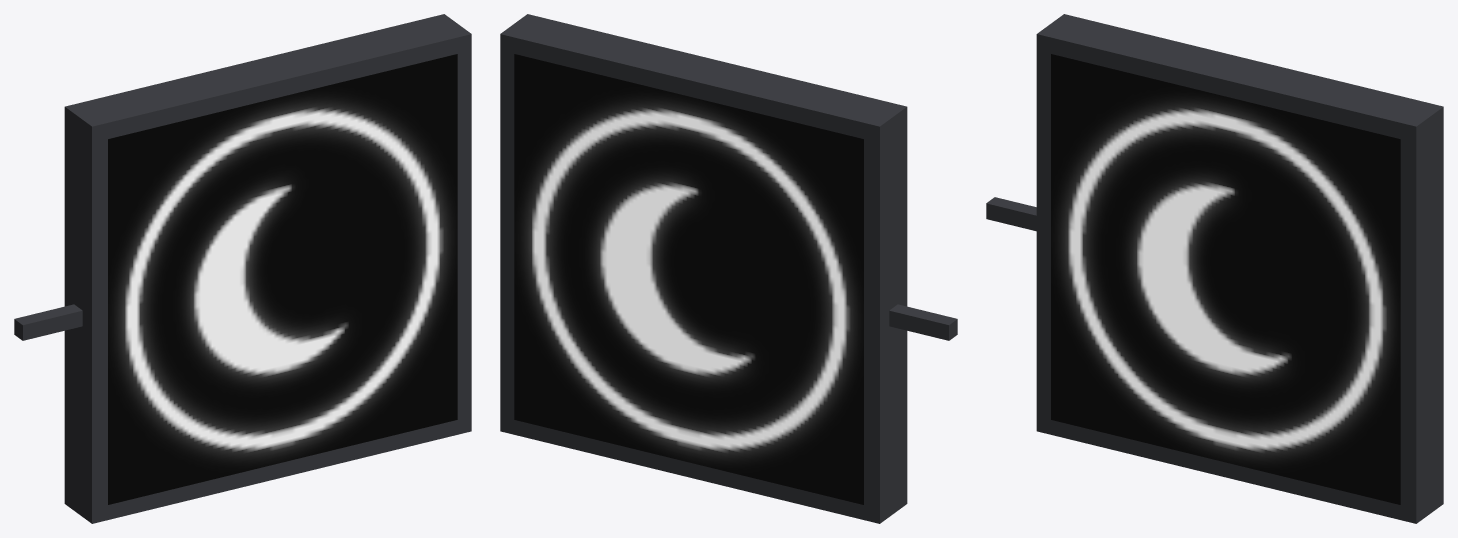
The model's file is sign_roundel_5.gltf.
3 renders of one model, left to right at view 1: azimuth 30°, elevation 25°; view 2: azimuth 150°, elevation 25°; view 3: azimuth 330°, elevation 25°, orthographic.
Visible parts, largest first — view 1: sign_roundel_5; view 2: sign_roundel_5; view 3: sign_roundel_5.
Boxes of the visible parts, x1,y1,x2,y2 form: sign_roundel_5: [14, 14, 471, 523]; sign_roundel_5: [500, 14, 957, 523]; sign_roundel_5: [986, 14, 1443, 523].
Bounding box in the file's own units: 1.76 × 1.52 × 0.2.
Materials: 2 (1 with a texture image).
